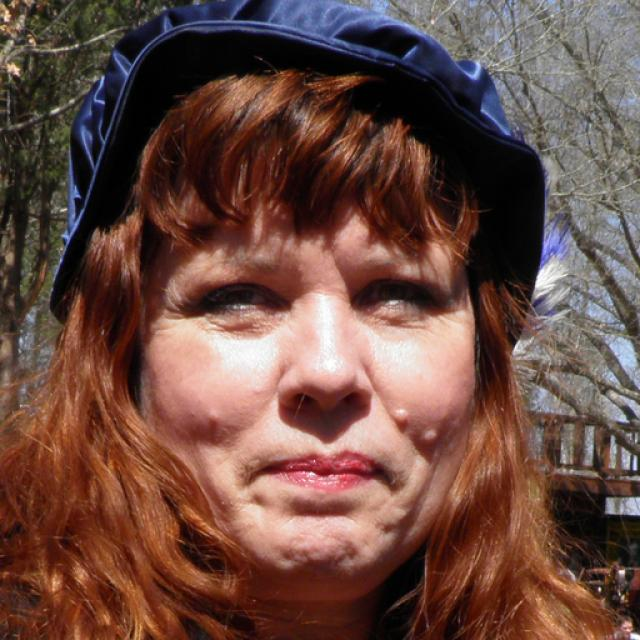Acne: (416, 419, 443, 451), (388, 405, 417, 431), (202, 404, 227, 432)
